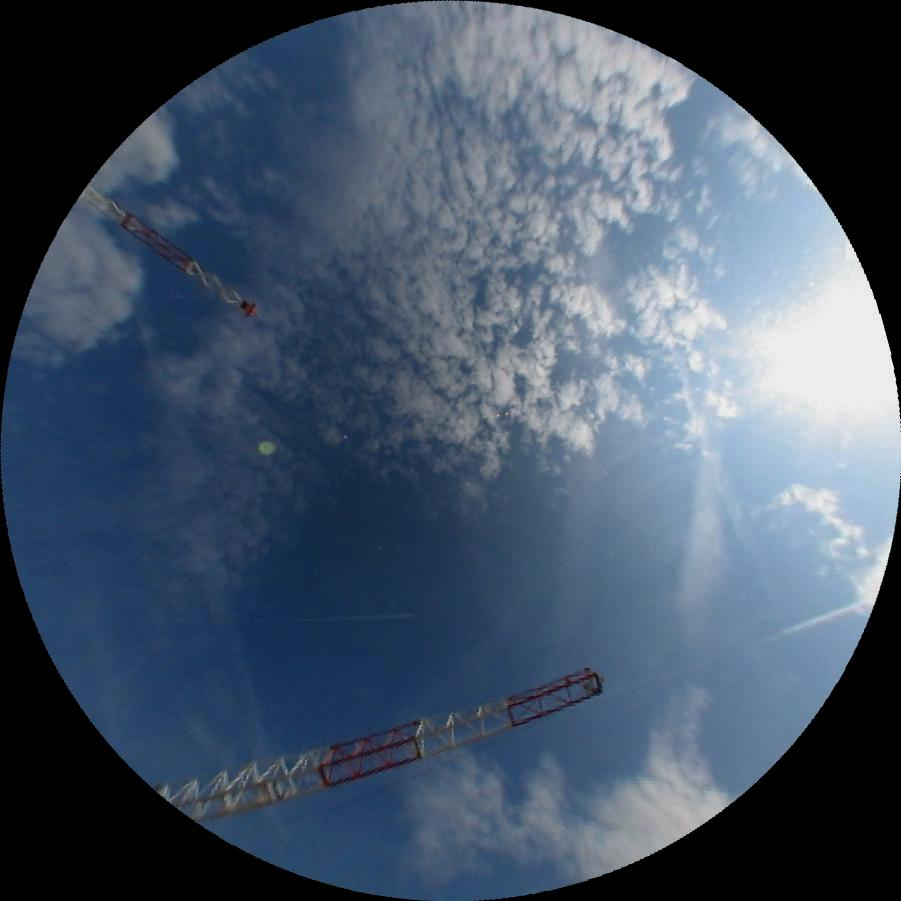contrail old: (613, 600, 861, 695)
contrail young: (173, 614, 413, 624)
sun: (780, 277, 901, 429)
